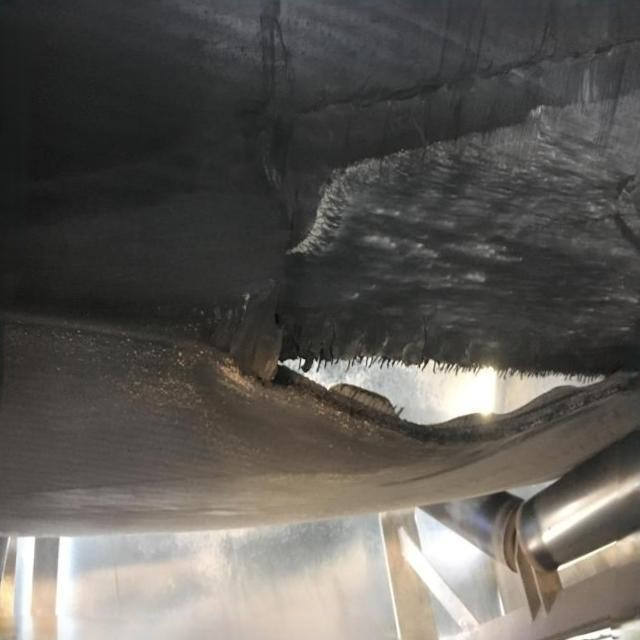Tear: (260, 324, 640, 450)
